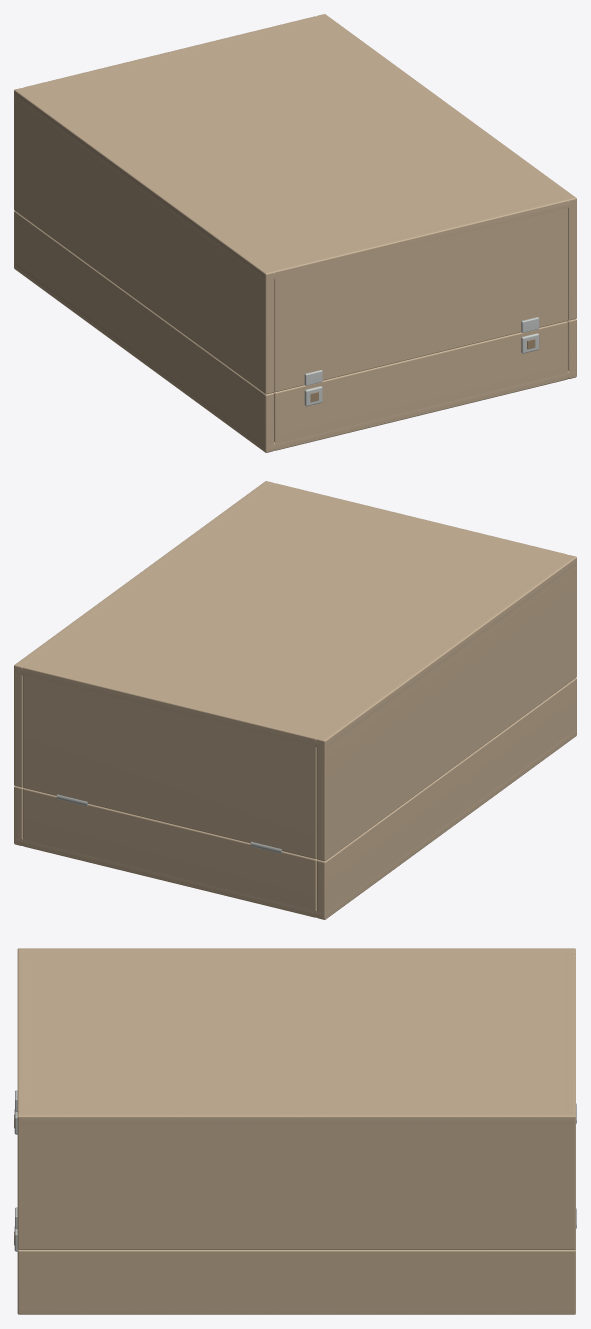
File: case-model.glb
3 views of the same model, one above another, from view 1: azimuth 30°, elevation 25°; view 2: azimuth 150°, elevation 25°; view 3: azimuth 270°, elevation 25° (orthographic). The views are drawn at different scales.
Parts seen in each view (by area): view 1: Lid_top, Lid_end, Lid_side, Tray_end, Tray_side, Base, Lid_side.001, Lid_end.001; view 2: Lid_top, Lid_end.001, Lid_side, Tray_end.001, Tray_side, Base, Lid_side.001, Lid_end; view 3: Lid_top, Lid_side.001, Tray_side.001, Base, Lid_side, Lid_end, Lid_end.001.
Part boxes in pixels (<box>): Lid_top: <box>14,16,575,280</box>; Lid_end: <box>271,197,567,392</box>; Lid_side: <box>14,88,274,394</box>; Tray_end: <box>273,321,567,450</box>; Tray_side: <box>14,211,273,452</box>; Base: <box>14,263,575,450</box>; Lid_side.001: <box>317,14,576,320</box>; Lid_end.001: <box>24,16,319,90</box>; Lid_top: <box>15,483,576,747</box>; Lid_end.001: <box>23,664,319,859</box>; Lid_side: <box>316,555,576,861</box>; Tray_end.001: <box>23,788,317,917</box>; Tray_side: <box>317,678,576,919</box>; Base: <box>15,730,576,917</box>; Lid_side.001: <box>14,481,273,787</box>; Lid_end: <box>271,483,566,557</box>; Lid_top: <box>18,952,575,1124</box>; Lid_side.001: <box>17,1112,575,1249</box>; Tray_side.001: <box>17,1249,575,1314</box>; Base: <box>20,1307,573,1312</box>; Lid_side: <box>17,948,575,953</box>; Lid_end: <box>17,953,27,1111</box>; Lid_end.001: <box>566,953,575,1112</box>.
Size of the model in its own units: 0.2121 by 0.1184 by 0.2996.
